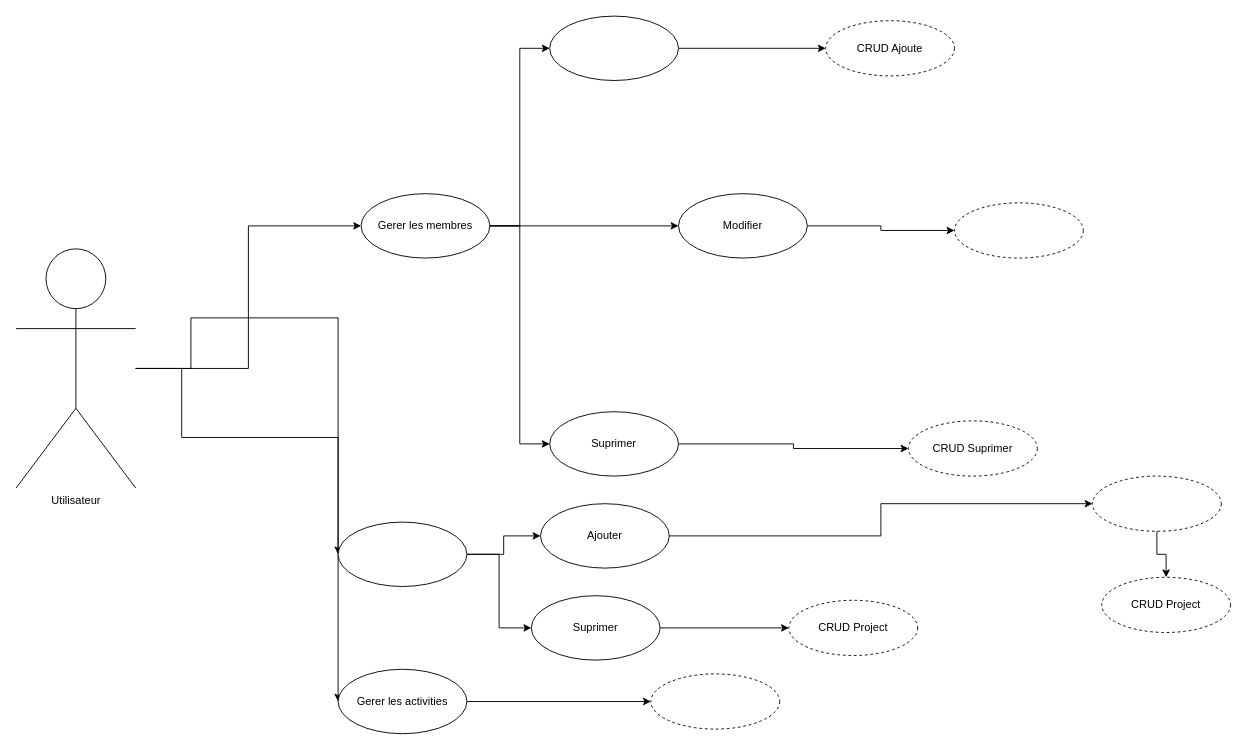
The diagram is 1247 pixels wide and 750 high, and some of its shapes have lost their labels. The shapes that lost their labels are listed below. From the top down, each one's box as (x1, y1, x2, y2) in pixels, then its label:
(549, 15, 678, 80): Ajoute
(954, 202, 1083, 258): CRUD Modifier
(1092, 475, 1221, 531): Choix type de project
(337, 521, 467, 586): Gerer les projects
(650, 673, 780, 729): CRUD Activities
